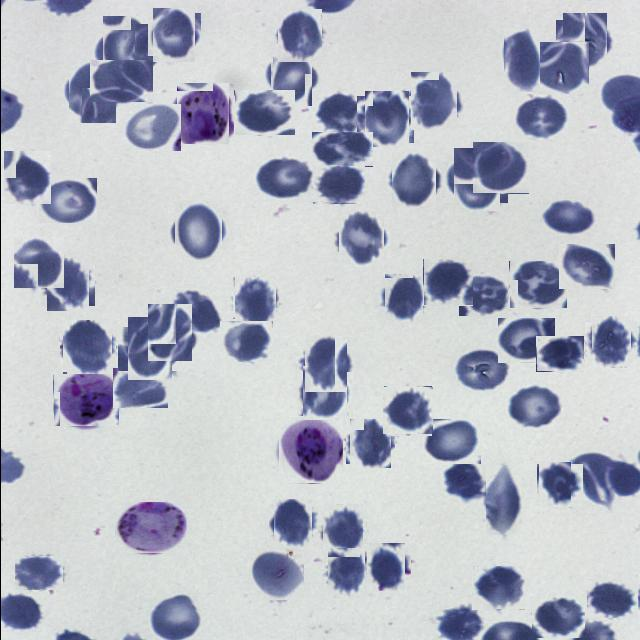difficult: (114, 502, 186, 554), (52, 374, 118, 427)
red blood cell: (95, 22, 154, 81), (64, 64, 120, 120), (448, 152, 503, 207), (471, 142, 528, 194), (170, 204, 224, 258), (122, 322, 176, 376), (532, 42, 588, 94), (250, 546, 303, 600), (233, 90, 294, 136), (508, 261, 566, 309), (121, 104, 180, 151), (358, 94, 411, 146), (61, 322, 113, 374), (408, 75, 460, 127), (252, 155, 312, 200), (38, 176, 96, 222), (450, 346, 509, 391), (558, 17, 610, 68), (336, 213, 386, 266), (89, 60, 152, 102), (422, 419, 480, 464), (143, 307, 194, 358), (12, 238, 64, 288), (2, 151, 50, 205), (558, 242, 614, 288), (485, 465, 521, 535), (497, 318, 554, 362), (266, 52, 316, 102), (388, 155, 438, 205), (299, 369, 349, 419), (300, 338, 350, 388), (382, 386, 432, 436), (506, 384, 560, 430), (514, 94, 568, 140), (570, 452, 616, 506), (275, 12, 324, 61), (148, 11, 198, 58), (422, 259, 472, 306), (471, 566, 524, 610), (44, 261, 92, 309), (503, 28, 539, 92), (168, 289, 219, 334), (531, 596, 584, 638), (112, 368, 167, 408), (219, 321, 272, 362), (310, 132, 372, 167), (313, 91, 364, 133), (311, 165, 364, 205), (230, 278, 276, 324), (587, 319, 633, 365), (458, 273, 507, 316), (347, 420, 392, 466), (319, 506, 364, 551), (540, 200, 594, 237), (363, 545, 408, 589), (380, 276, 424, 320), (323, 551, 367, 595), (537, 463, 581, 507), (586, 581, 637, 618), (440, 461, 488, 499), (271, 502, 314, 544), (536, 336, 584, 372), (14, 556, 62, 590)
trophozoite: (278, 419, 342, 484), (173, 85, 230, 143)
